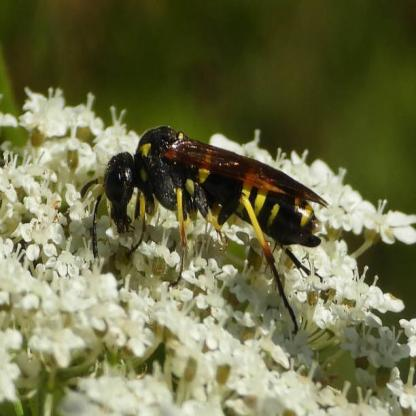sawfly: (75, 122, 329, 344)
